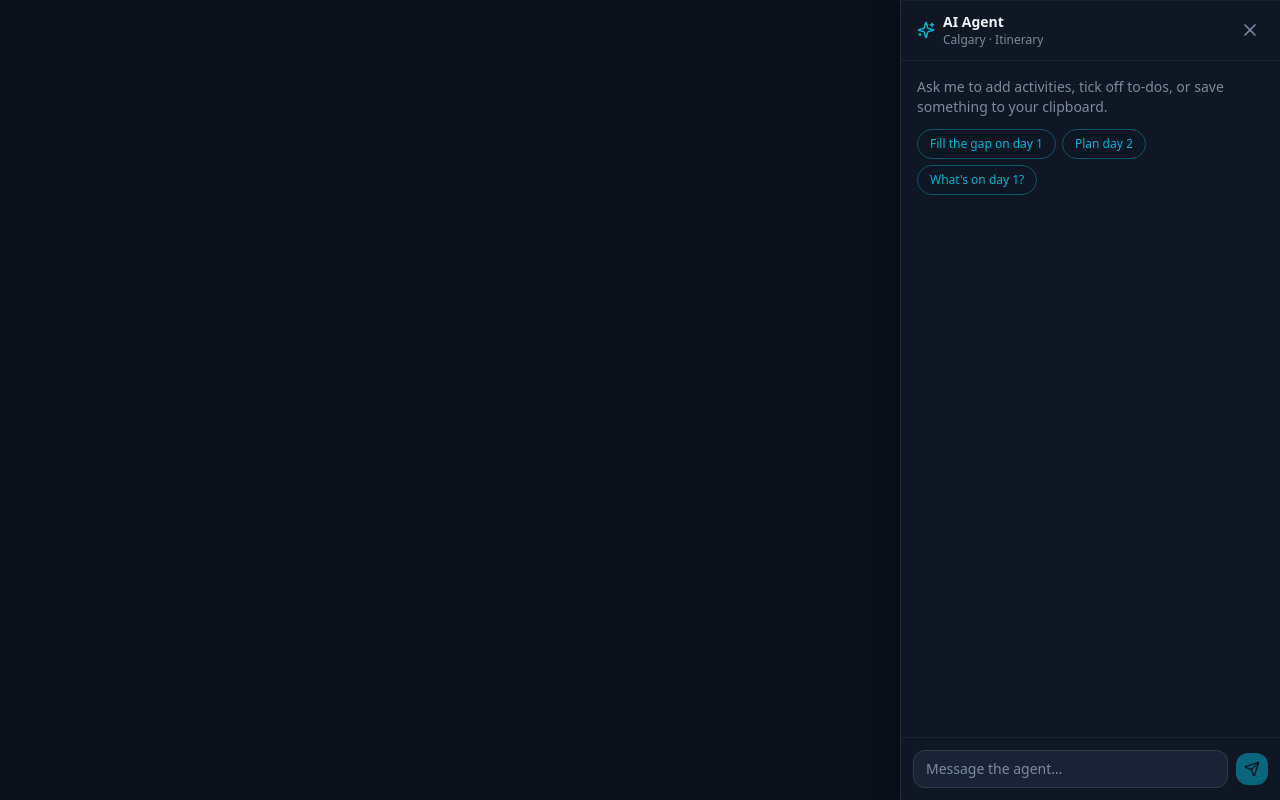
Test: after a reply › offers nothing when the assistant proposed nothing
Type "plan day 2" into the field with test id "agent-input". click: (1070, 769)
box: [913, 750, 1228, 788]
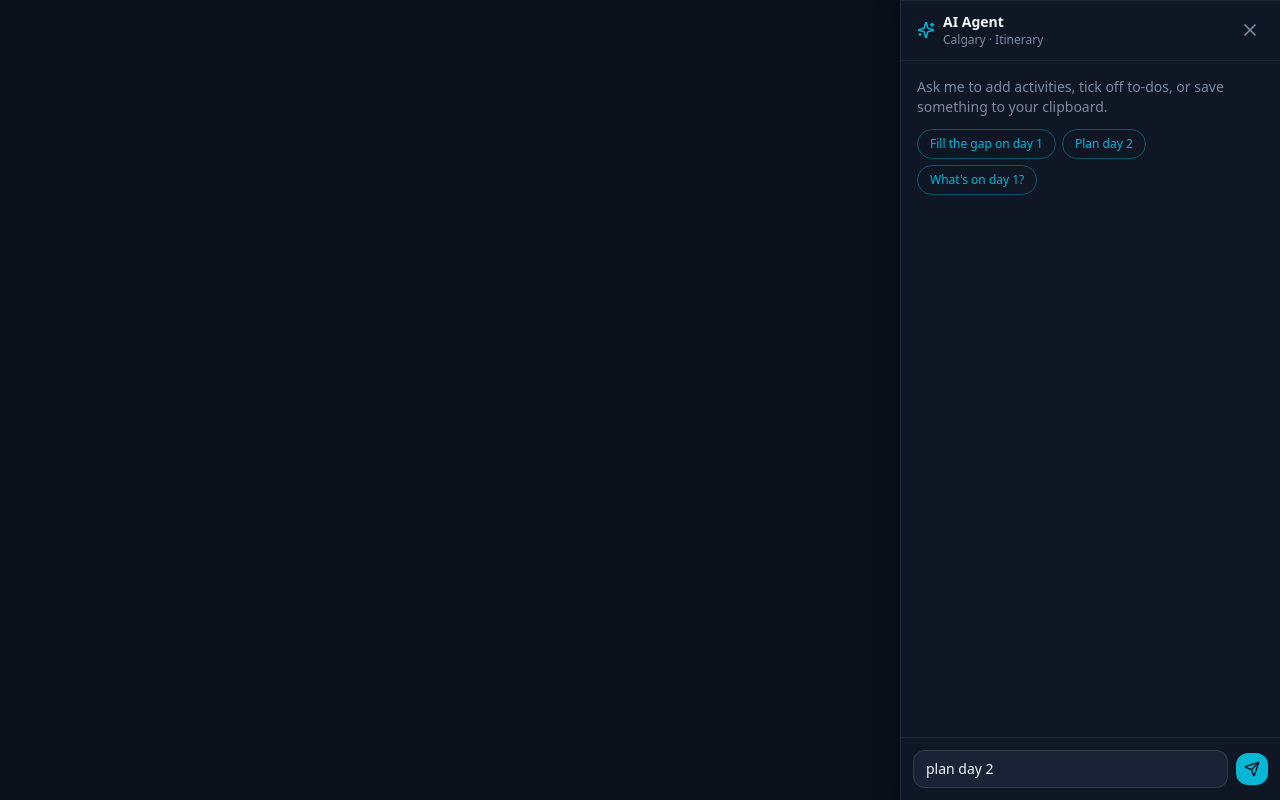
Click the button with test id "agent-send". click: (1252, 769)
box: [1236, 753, 1268, 785]
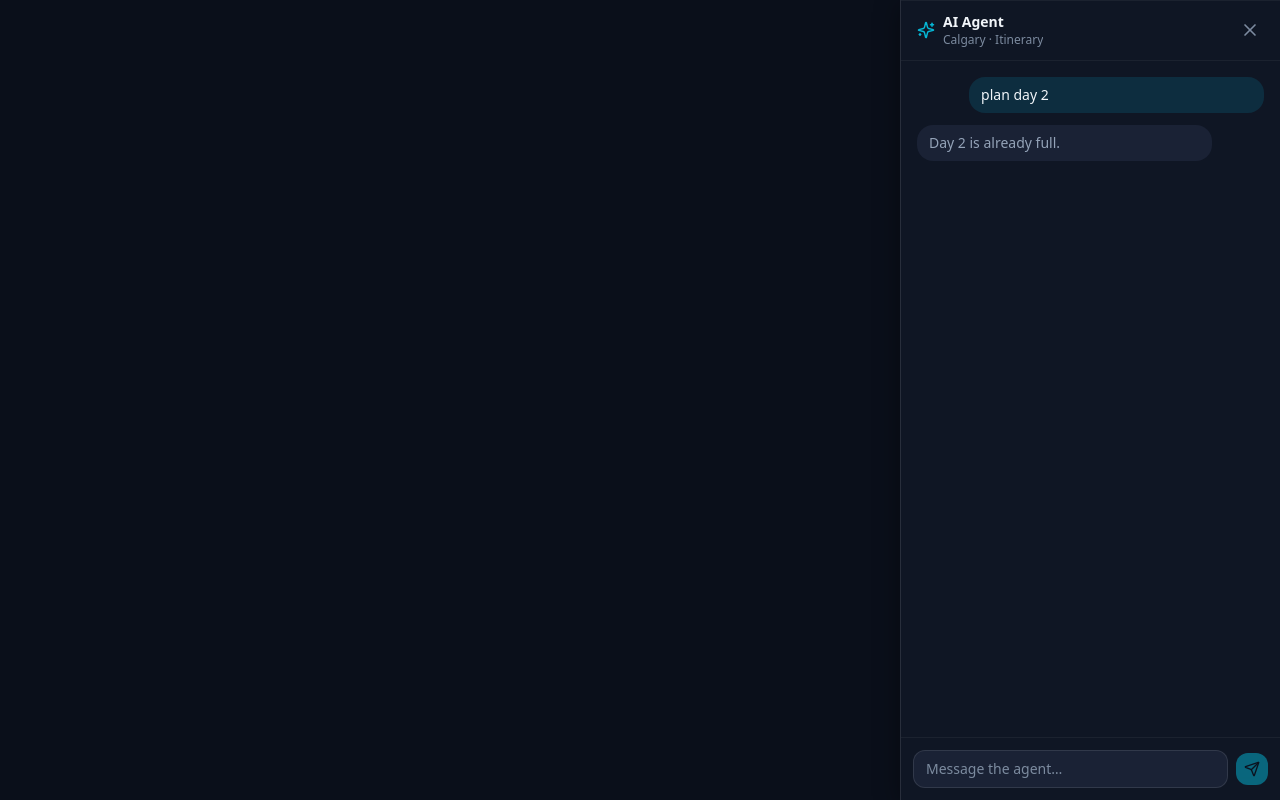
Expected: the element with test id "agent-msg-assistant" is shown, [917, 125, 1212, 161]
Expected: the element with test id "agent-suggestions" is gone
